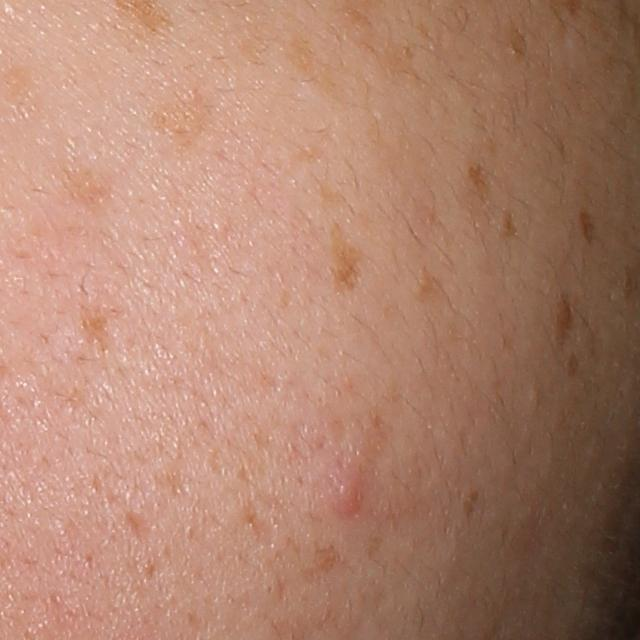atrophic_scar: (237, 501, 285, 556), (124, 509, 162, 546)
comedo: (528, 385, 544, 406)
melasma: (154, 87, 208, 153), (326, 225, 367, 296), (58, 163, 115, 208), (463, 163, 492, 212), (503, 212, 528, 245)
papule: (329, 484, 368, 517)
